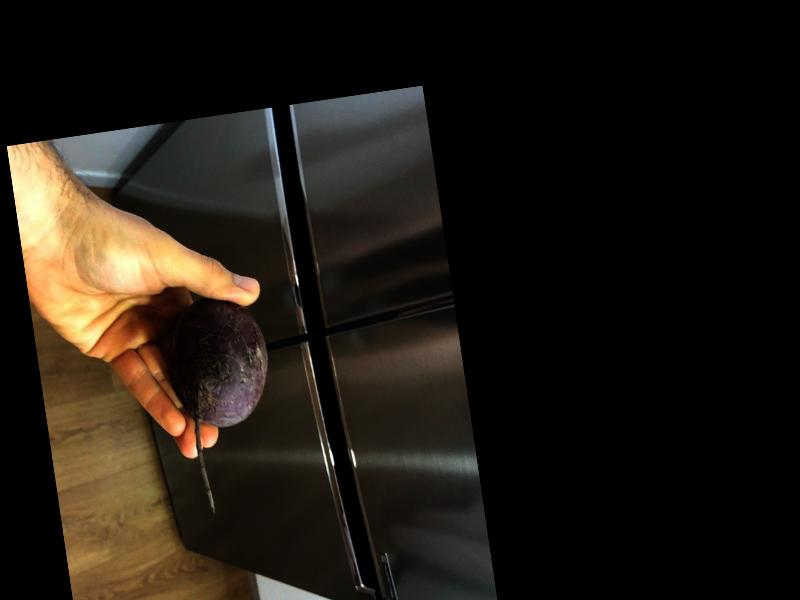Beet: (161, 291, 289, 517)
